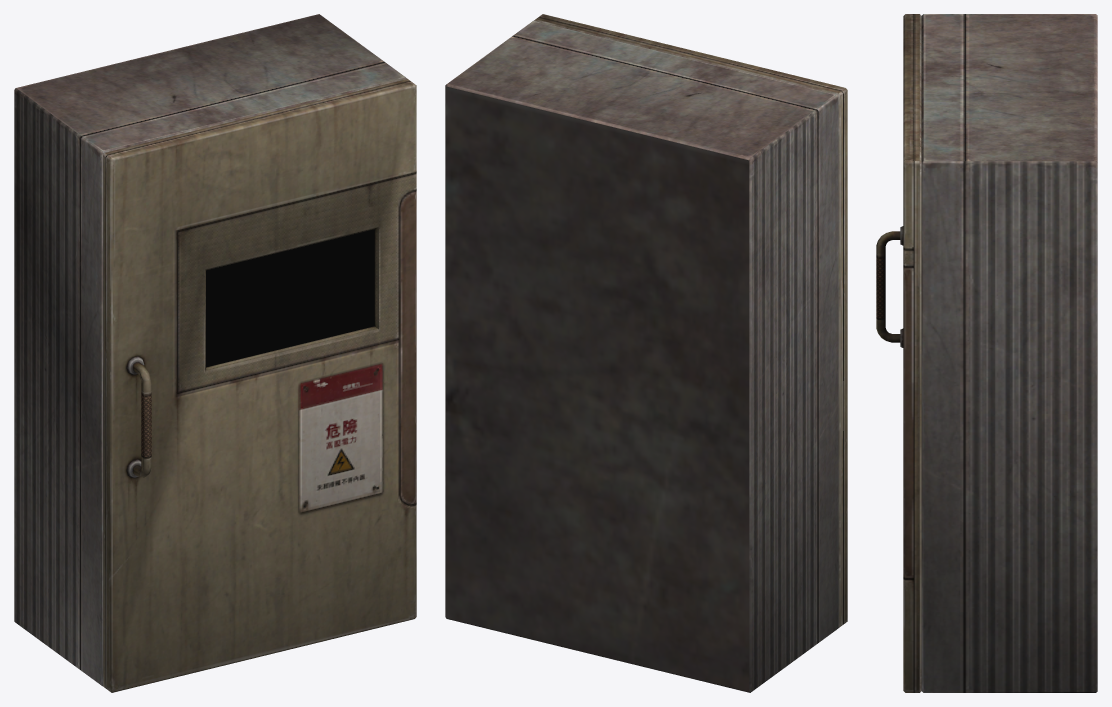
The model's file is power_box.dae.
The picture shows the model from 3 angles, left to right: view 1: azimuth 30°, elevation 25°; view 2: azimuth 150°, elevation 25°; view 3: azimuth 270°, elevation 25°; orthographic projection.
Visible parts, largest first — view 1: door_low, base_low, glass; view 2: base_low, door_low; view 3: base_low, door_low.
Boxes of the visible parts, x1=… form: door_low: x1=103, y1=79, x2=416, y2=692; base_low: x1=14, y1=14, x2=407, y2=686; glass: x1=206, y1=229, x2=374, y2=367; base_low: x1=445, y1=20, x2=838, y2=692; door_low: x1=534, y1=14, x2=847, y2=627; base_low: x1=921, y1=14, x2=1097, y2=692; door_low: x1=876, y1=14, x2=921, y2=692.
Size of the model in its own units: 1.5 by 2.5 by 0.9443.
